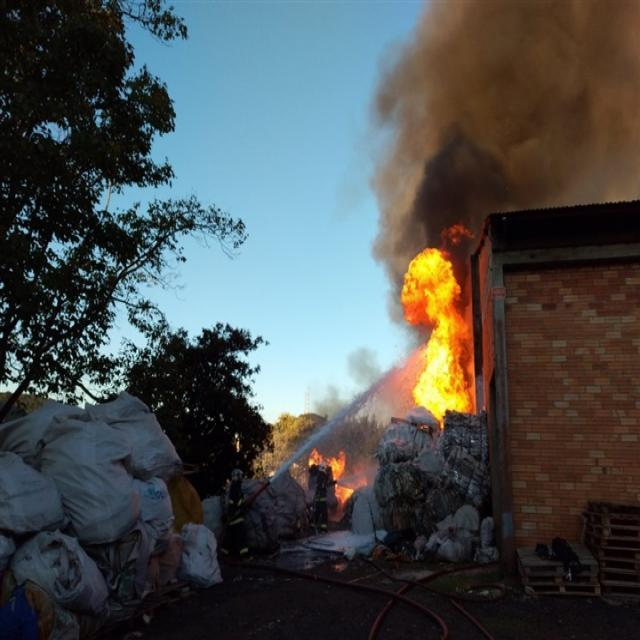Fire: (397, 248, 479, 414), (302, 446, 354, 504)
